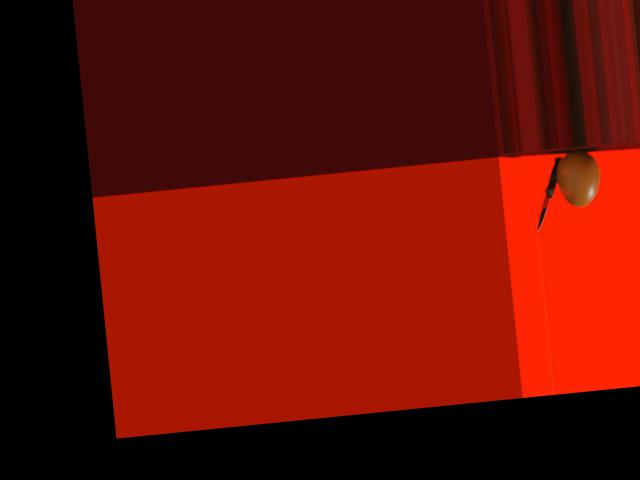egg: (554, 149, 602, 207)
